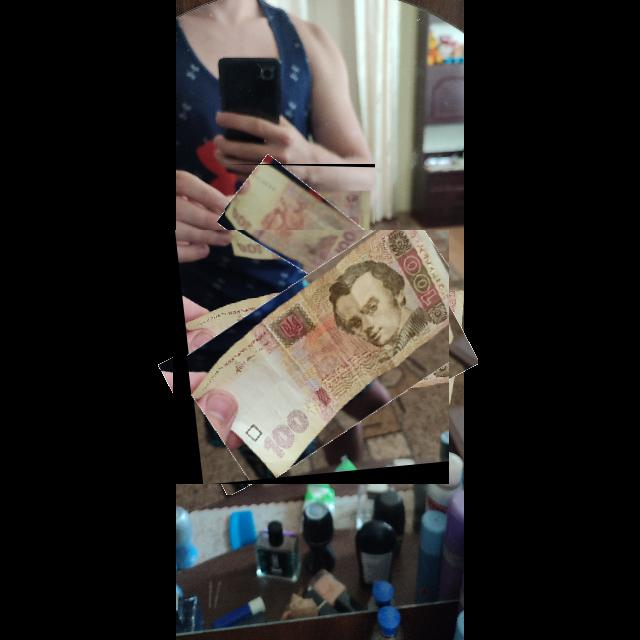100uah: (188, 230, 450, 480), (225, 165, 376, 299)
